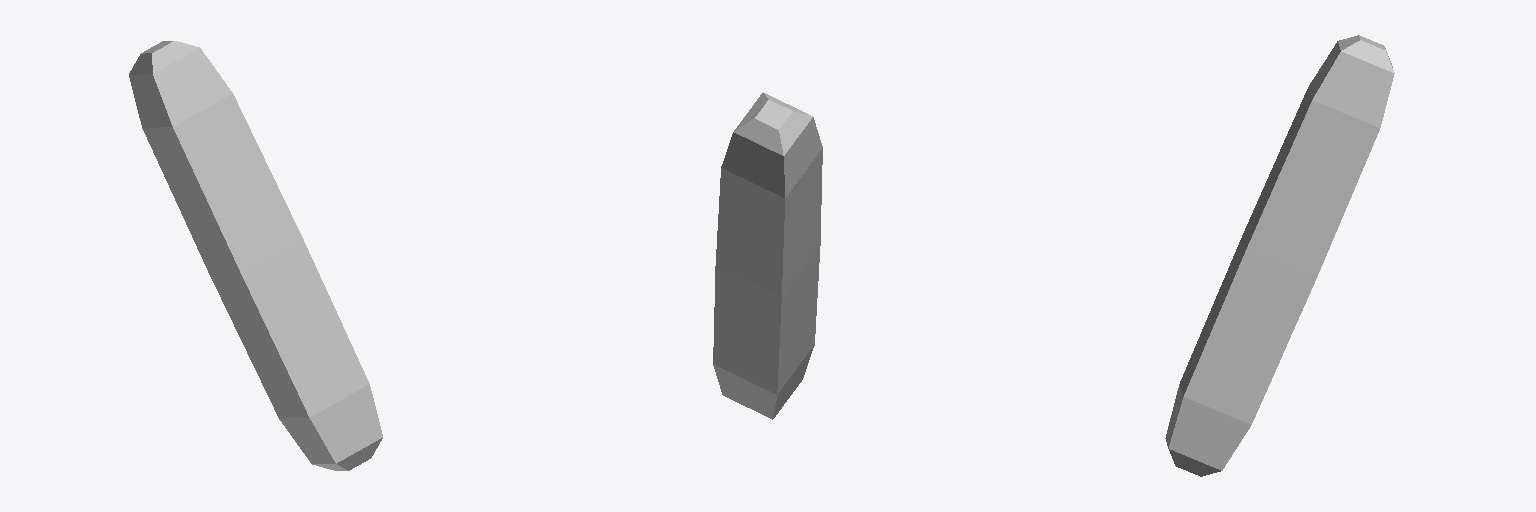
Rendered from left_hand_cp_4.obj.
The picture shows the model from 3 angles: view 1: azimuth 30°, elevation 25°; view 2: azimuth 150°, elevation 25°; view 3: azimuth 270°, elevation 25°; orthographic projection.
Parts seen in each view (by area): view 1: ../rami/model/left_hand_cp_4; view 2: ../rami/model/left_hand_cp_4; view 3: ../rami/model/left_hand_cp_4.
Boxes of the visible parts, x1,y1,x2,y2 form: ../rami/model/left_hand_cp_4: [129, 41, 382, 470]; ../rami/model/left_hand_cp_4: [713, 92, 822, 419]; ../rami/model/left_hand_cp_4: [1165, 35, 1394, 476].
Bounding box in the file's own units: 0.0002 × 0.0005 × 0.0002.